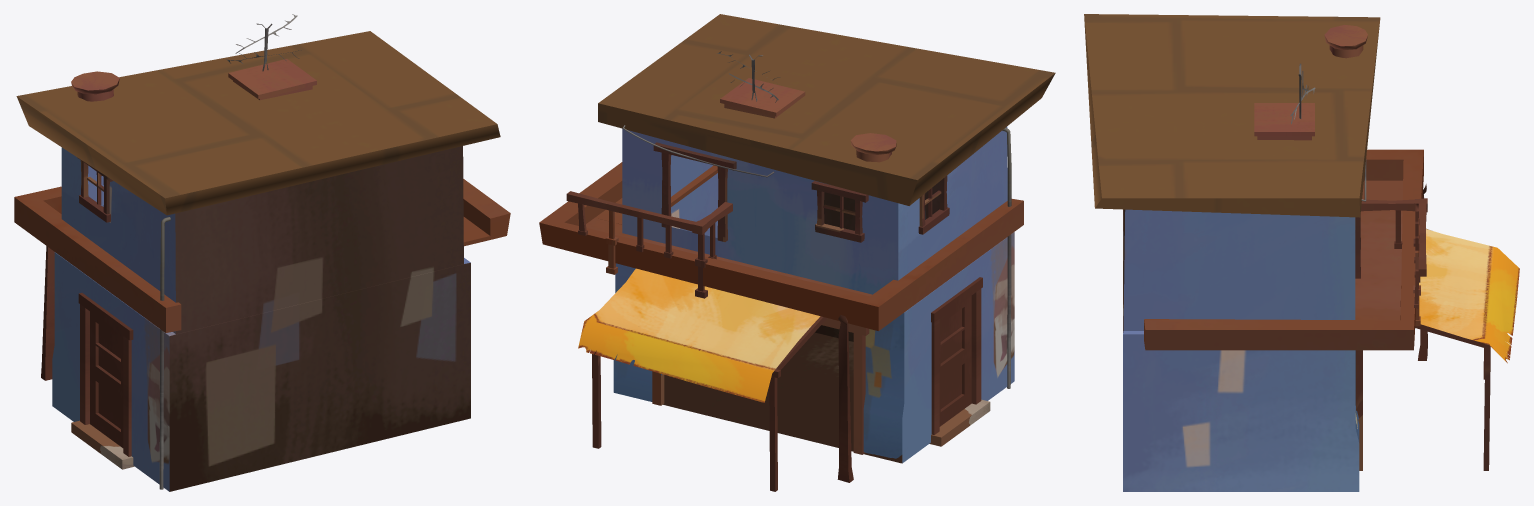
The model's file is casaconshadesmooth.fbx.
The picture shows the model from 3 angles, left to right: view 1: azimuth 30°, elevation 25°; view 2: azimuth 150°, elevation 25°; view 3: azimuth 270°, elevation 25°; orthographic projection. The views are drawn at different scales.
Visible parts, largest first — view 1: carpa2; view 2: carpa2; view 3: carpa2.
Part boxes in pixels (x1,y1,x2,y2): carpa2: (14,14,510,491); carpa2: (539,14,1055,491); carpa2: (1084,14,1519,491).
Size of the model in its own units: 16.21 by 15.98 by 14.87.
Materials: 1 (1 with a texture image).
